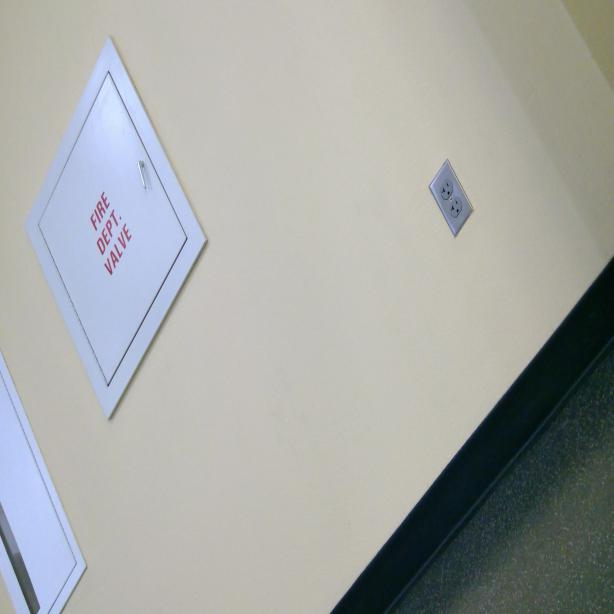typeb: (439, 176, 453, 201), (451, 197, 462, 216)
